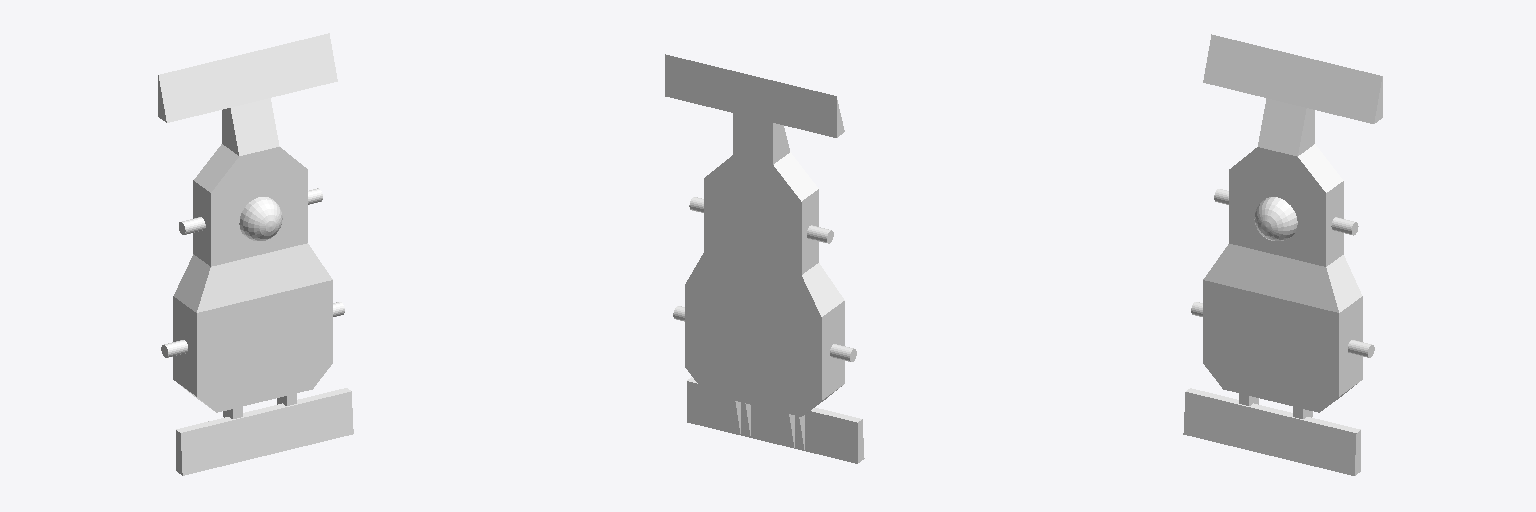
The model's file is Carro.obj.
3 renders of one model, left to right at view 1: azimuth 30°, elevation 25°; view 2: azimuth 150°, elevation 25°; view 3: azimuth 330°, elevation 25°, orthographic.
Parts seen in each view (by area): view 1: Mesh1 Model; view 2: Mesh1 Model; view 3: Mesh1 Model.
Part boxes in pixels (x1,y1,x2,y2): Mesh1 Model: (158, 33, 353, 475); Mesh1 Model: (665, 54, 864, 463); Mesh1 Model: (1183, 34, 1382, 475).
Size of the model in its own units: 87.71 by 181 by 24.95.